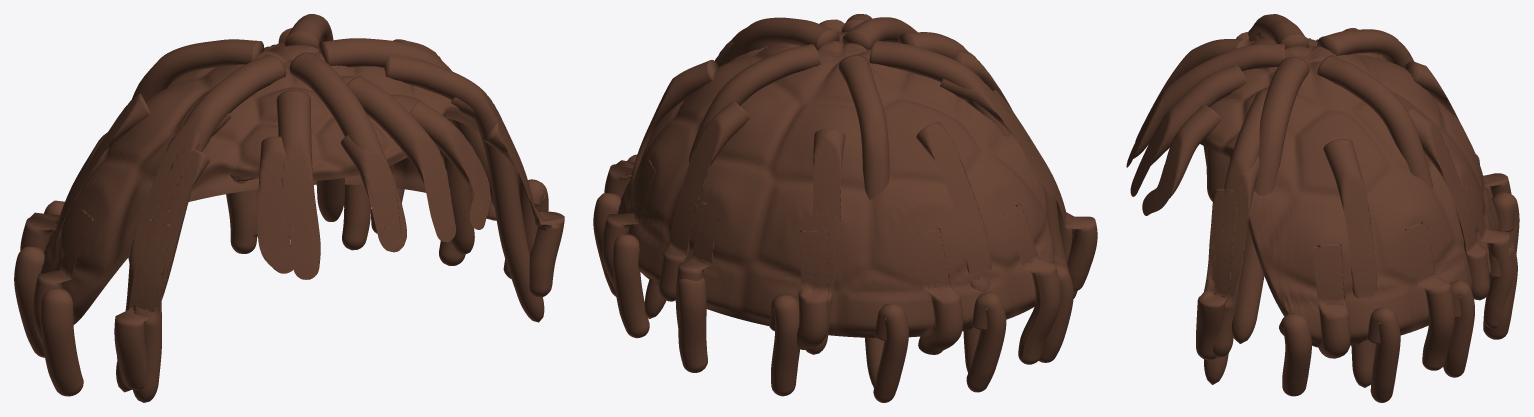
Rendered from Masculine-locs-beanie252-hair.glb.
3 views of the same model, side by side, from view 1: azimuth 30°, elevation 25°; view 2: azimuth 150°, elevation 25°; view 3: azimuth 270°, elevation 25° (orthographic). The views are drawn at different scales.
Parts seen in each view (by area): view 1: 226 hair / Hair252 / sectioned locs.001; view 2: 226 hair / Hair252 / sectioned locs.001; view 3: 226 hair / Hair252 / sectioned locs.001.
Boxes of the visible parts, x1,y1,x2,y2 form: 226 hair / Hair252 / sectioned locs.001: (14,14,564,402); 226 hair / Hair252 / sectioned locs.001: (593,14,1097,402); 226 hair / Hair252 / sectioned locs.001: (1126,14,1519,402).
Bounding box in the file's own units: 1.1 × 0.6395 × 0.8465.
